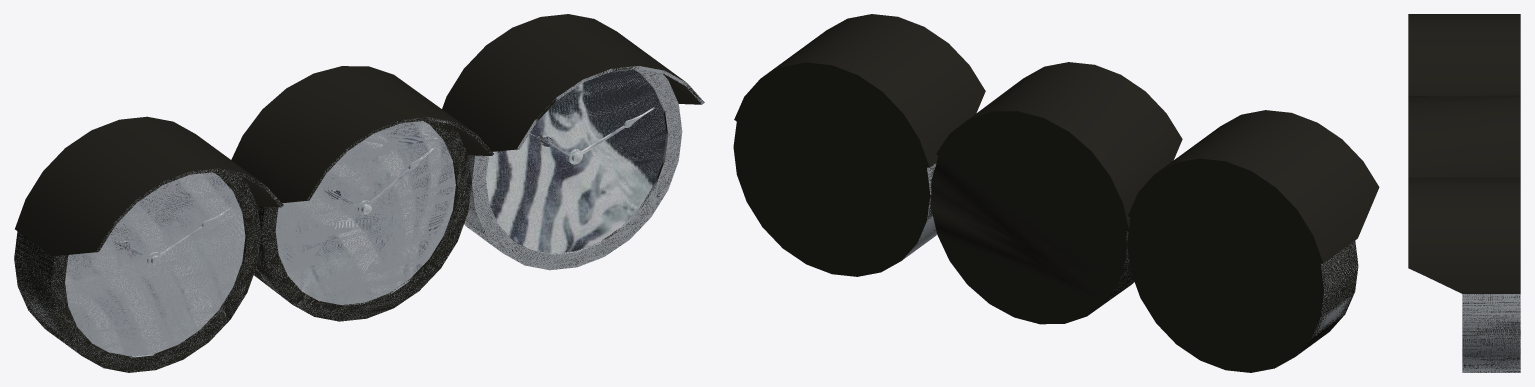
The model's file is prop_horloge_tricolore.fbx.
The picture shows the model from 3 angles, left to right: view 1: azimuth 30°, elevation 25°; view 2: azimuth 150°, elevation 25°; view 3: azimuth 270°, elevation 25°; orthographic projection. The views are drawn at different scales.
Visible parts, largest first — view 1: Group1, Group2, Group3; view 2: Group1, Group2, Group3; view 3: Group2, Group3, Group1.
Part boxes in pixels (x1,y1,x2,y2): Group1: (14,116,283,372); Group2: (442,14,704,270); Group3: (231,66,493,321); Group1: (1127,110,1379,372); Group2: (733,14,985,276); Group3: (931,62,1182,324); Group2: (1408,177,1520,372); Group3: (1408,95,1520,177); Group1: (1408,14,1520,96).
Bounding box in the file's own units: 0.4637 × 0.1568 × 0.09.
